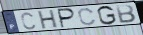B: (115, 4, 137, 24)
C: (78, 7, 98, 26), (20, 12, 37, 31)
G: (96, 5, 118, 26)
H: (37, 9, 59, 30)
P: (58, 8, 77, 29)
